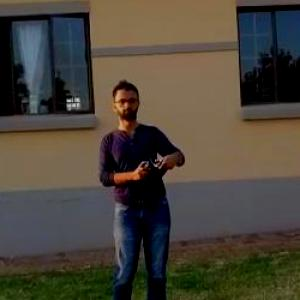follow: (95, 78, 198, 299)
